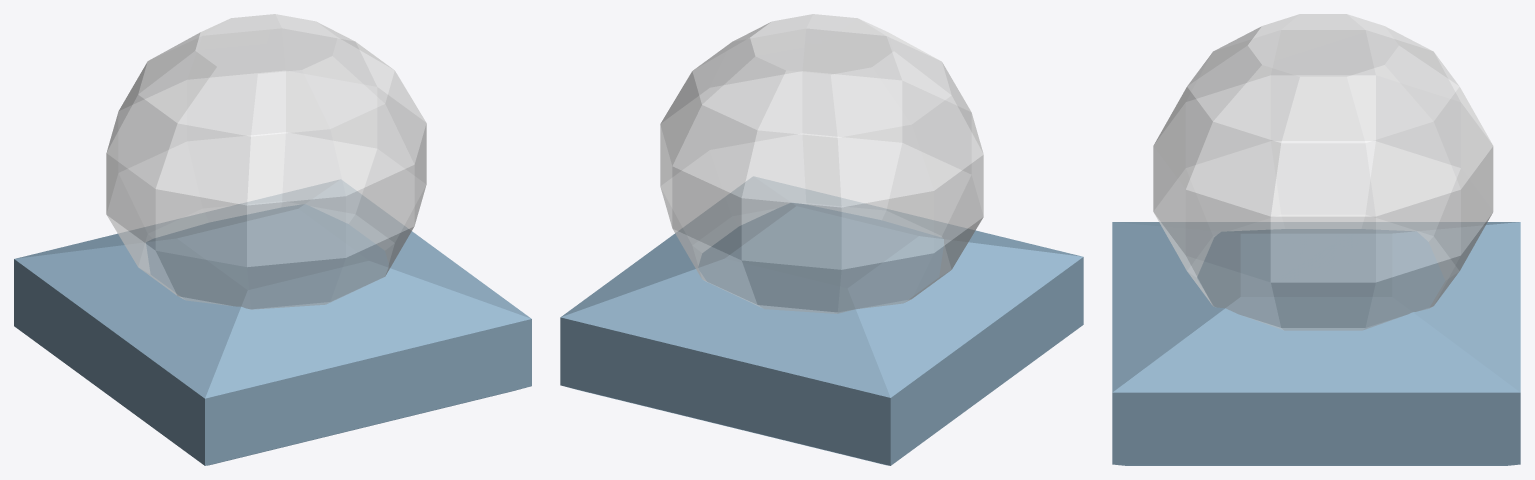
The model's file is car_blue.dae.
3 views of the same model, side by side, from view 1: azimuth 30°, elevation 25°; view 2: azimuth 150°, elevation 25°; view 3: azimuth 270°, elevation 25° (orthographic). The views are drawn at different scales.
Visible parts, largest first — view 1: car_blue_006; view 2: car_blue_006; view 3: car_blue_006.
Part boxes in pixels (bbox=[...]): car_blue_006: bbox=[14, 14, 531, 465]; car_blue_006: bbox=[560, 14, 1083, 465]; car_blue_006: bbox=[1112, 14, 1520, 465].
Bounding box in the file's own units: 0.6202 × 0.6273 × 0.5758.
